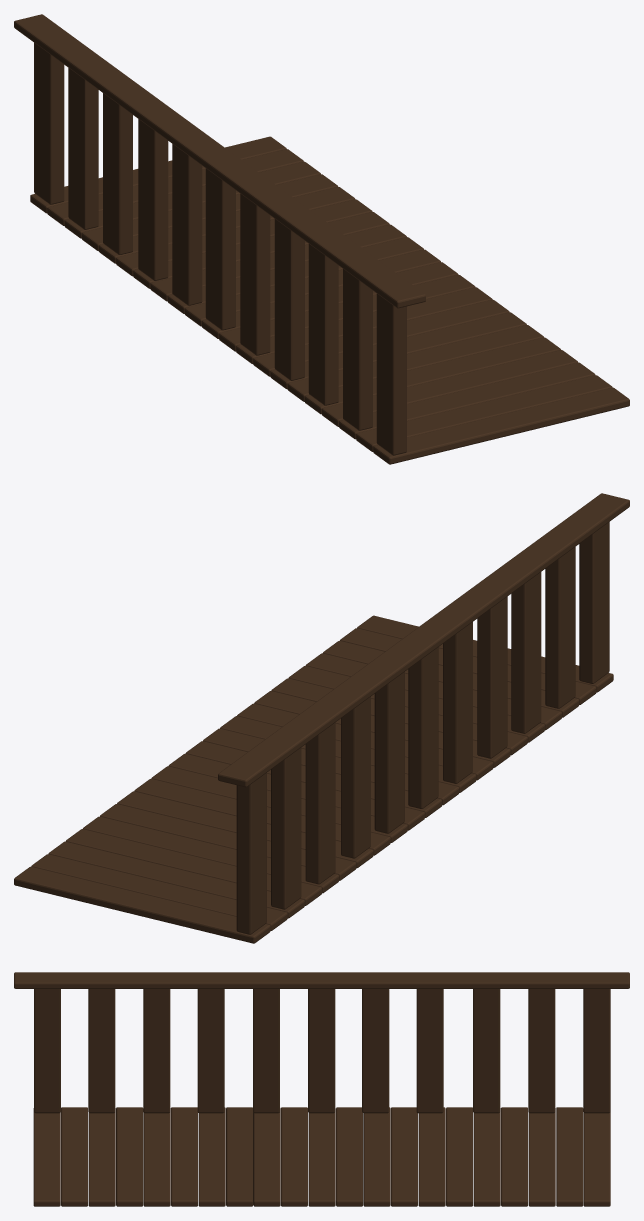
Rendered from Balcony.fbx.
The picture shows the model from 3 angles, top to bottom: view 1: azimuth 30°, elevation 25°; view 2: azimuth 150°, elevation 25°; view 3: azimuth 270°, elevation 25°; orthographic projection. The views are drawn at different scales.
Parts seen in each view (by area): view 1: Cube.066; view 2: Cube.066; view 3: Cube.066.
Part boxes in pixels (x1,y1,x2,y2): Cube.066: (14,14,629,464); Cube.066: (14,493,629,943); Cube.066: (14,972,629,1206).
Bounding box in the file's own units: 168 × 114 × 455.
